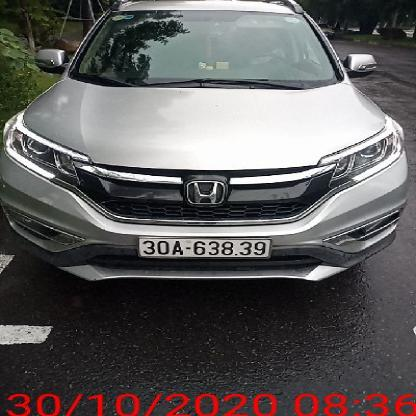biensoxe: (137, 230, 272, 264)
